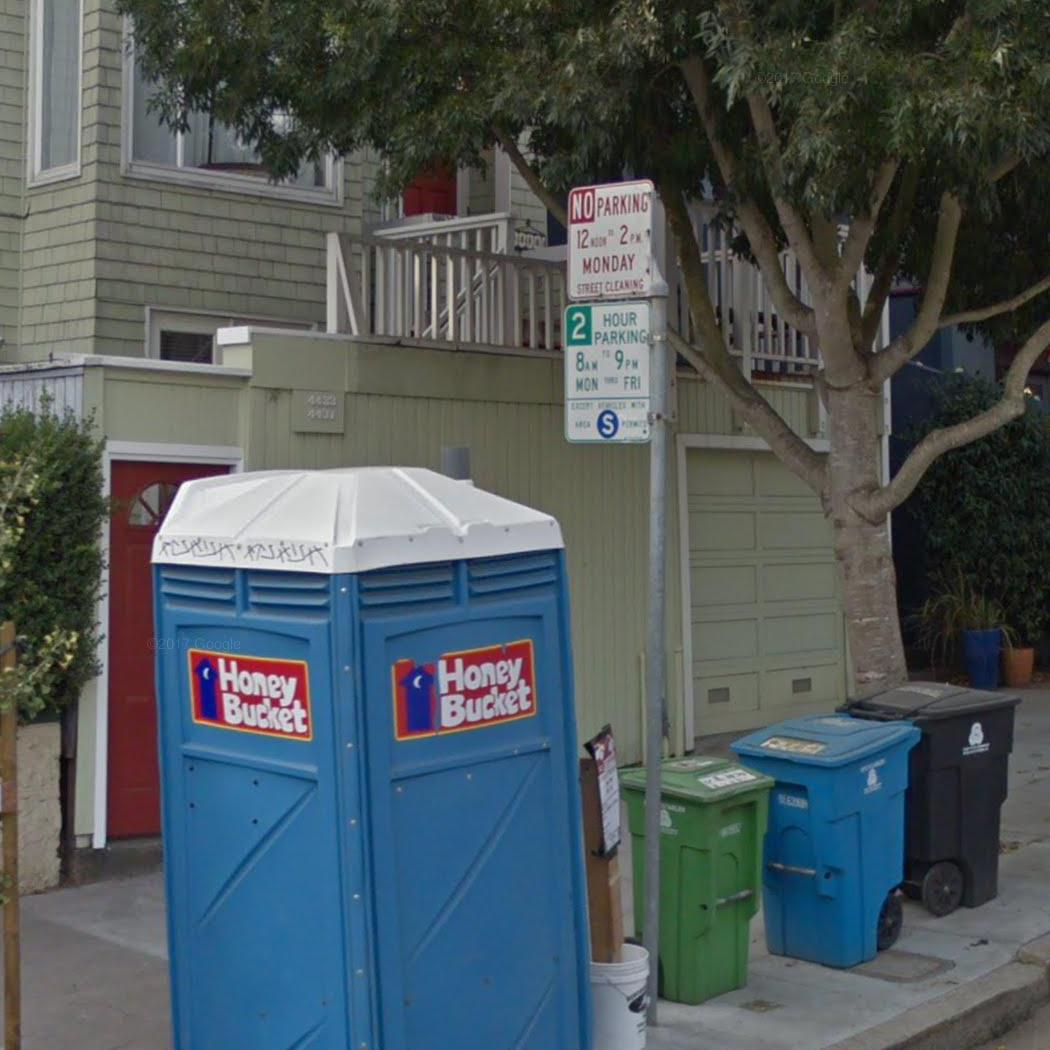2 Hour Parking: (556, 301, 661, 448)
No Parking: (561, 174, 664, 309)
